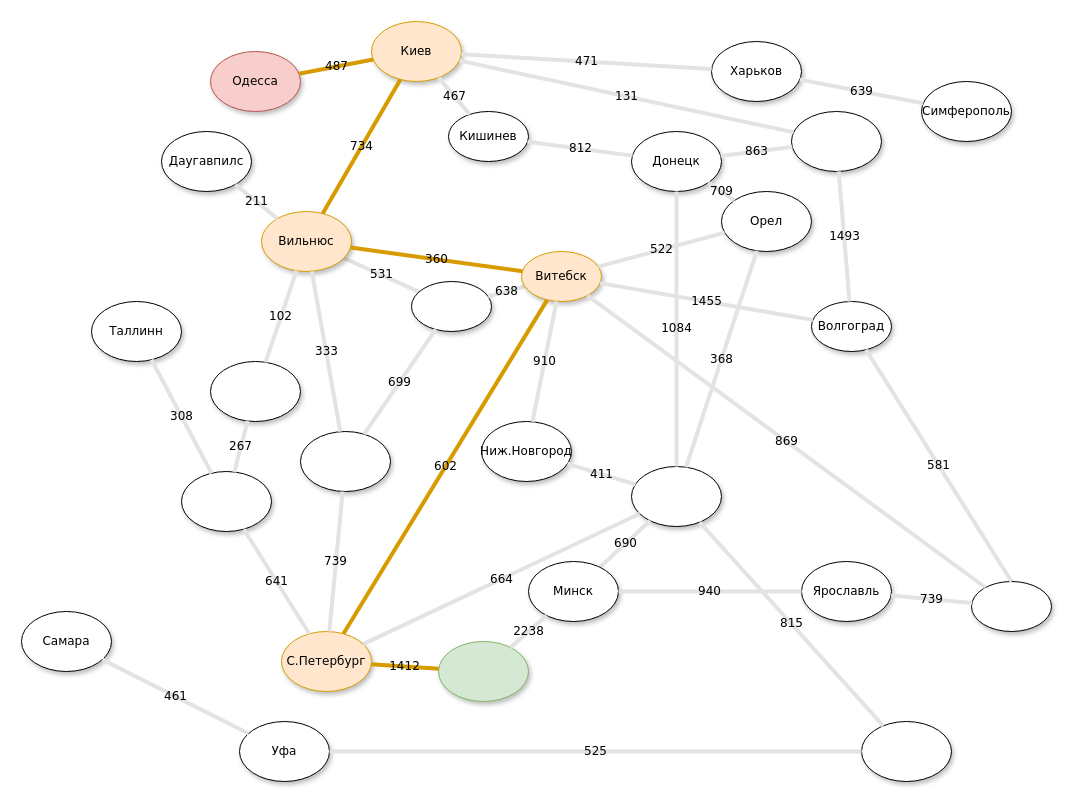
The diagram is 1075 pixels wide and 806 high, and some of its shapes have lost their labels. The centre of each missing label's shape, as x and y in pixels:
"Брест" goes at (x=452, y=307).
"Воронеж" goes at (x=1012, y=607).
"Житомир" goes at (x=837, y=142).
"Казань" goes at (x=907, y=752).
"Калининград" goes at (x=346, y=462).
"Каунас" goes at (x=256, y=392).
"Москва" goes at (x=677, y=498).
"Мурманск" goes at (x=484, y=672).
"Рига" goes at (x=227, y=502).
